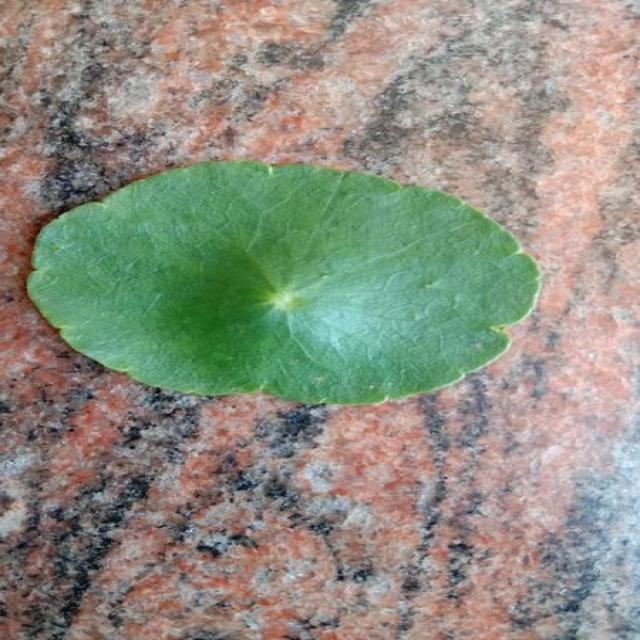bhrami: (28, 162, 538, 404)
